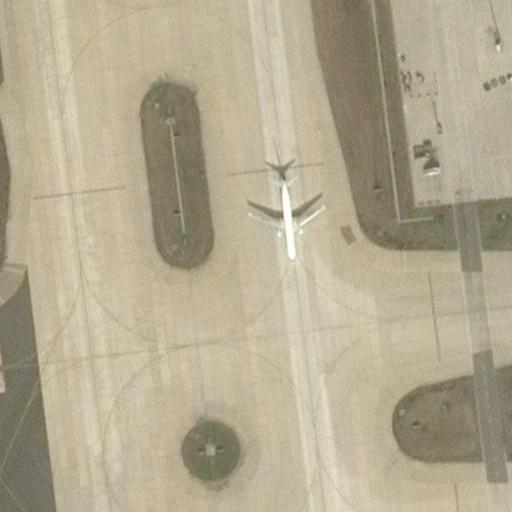Aircraft: (244, 155, 328, 270)
